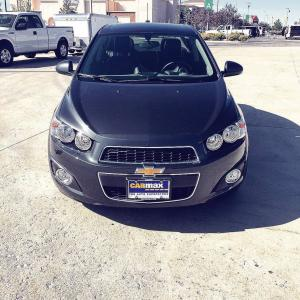Vehicle-registration-plate: (129, 180, 171, 201)
